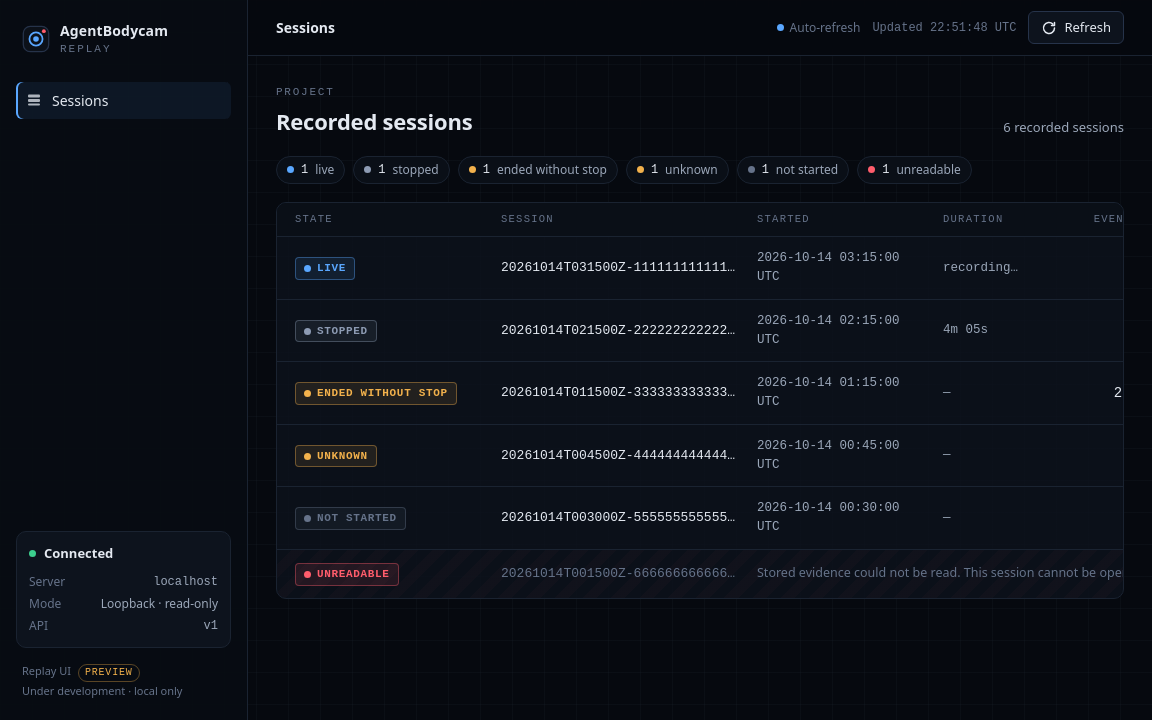
Test: session dashboard › auto-refreshes only while a session is live
The image size is (1152, 720).
Expected: the text "Auto-refresh" is shown, [777,18,860,36]
Click the button "Refresh": [1076, 28] box [1028,11,1124,44]
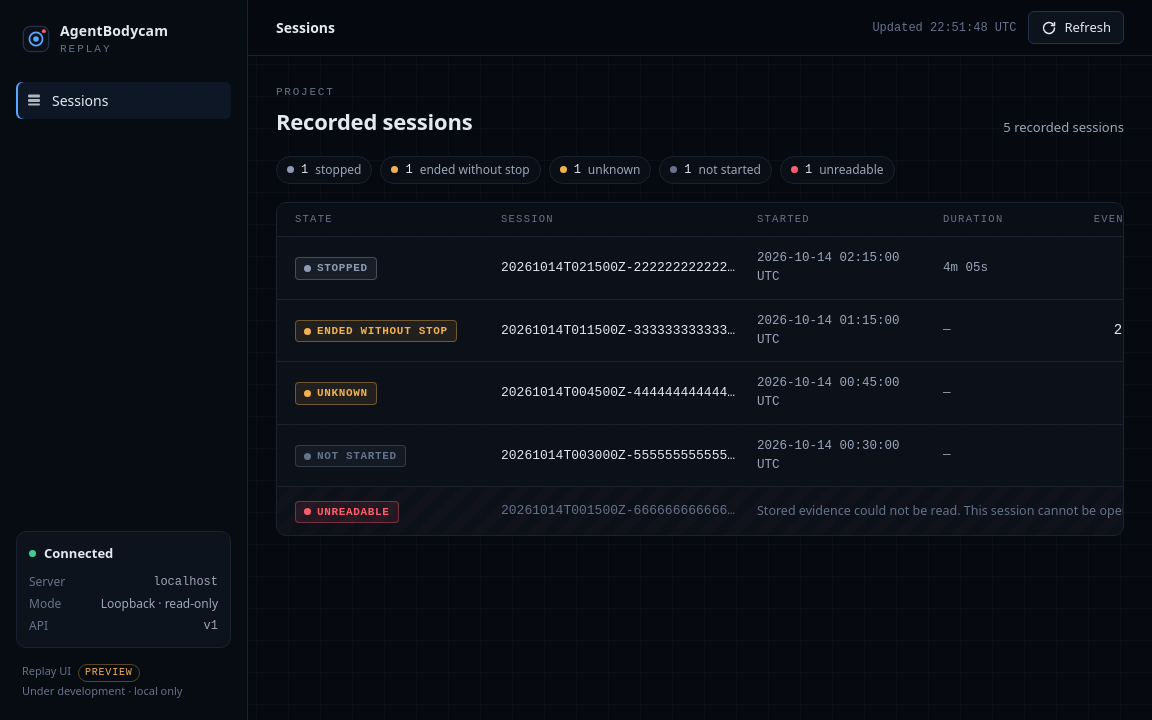
Expected: the text "Auto-refresh" is gone
